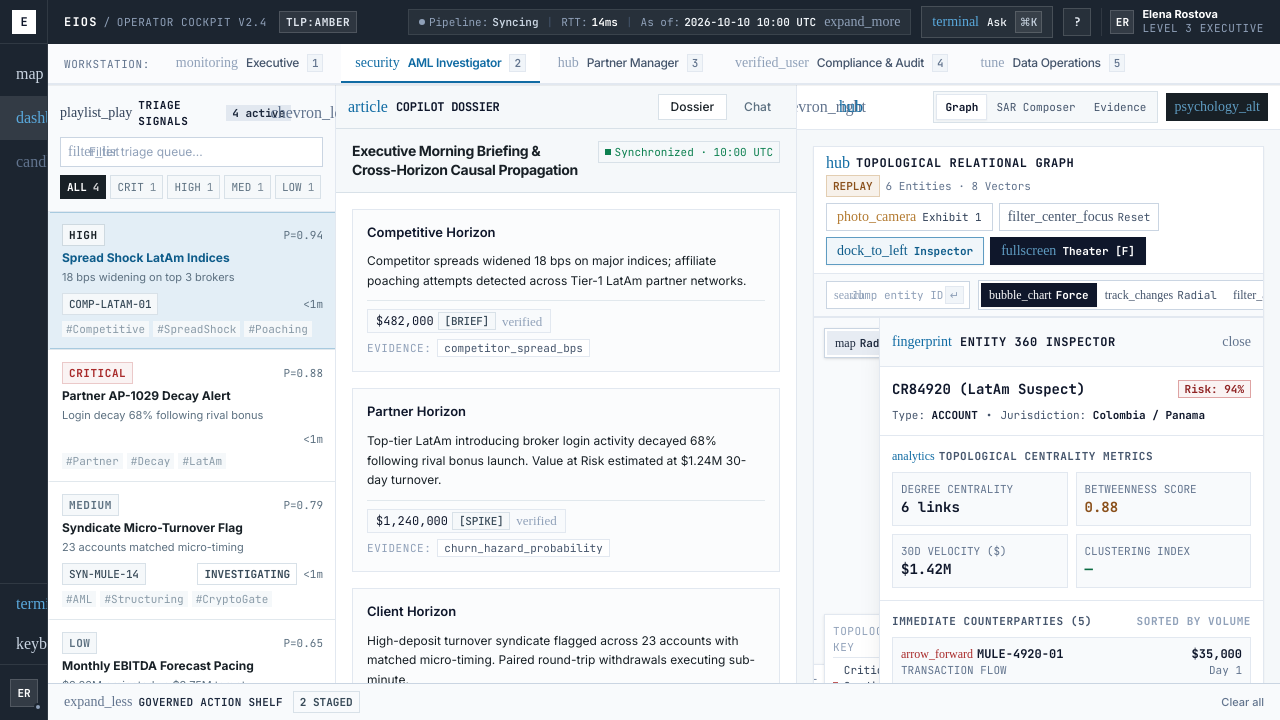
Test case: Tripartite Shell Layout & Navigation (User Story 1) › renders all tripartite COP zones: Left Rail, Center Dossier, Right Canvas, Header Nav, and Governed Action Shelf
This screenshot has width=1280, height=720.
Expected: the heading "OPERATOR COCKPIT v2.4" is shown, [117,14,267,30]
// System status (opened from the header pipeline chip) hosts Principle VIII Fallback & Outage Verification
Click the button with test id "header-pipeline-status" at (459, 22), box [408,9,911,35]
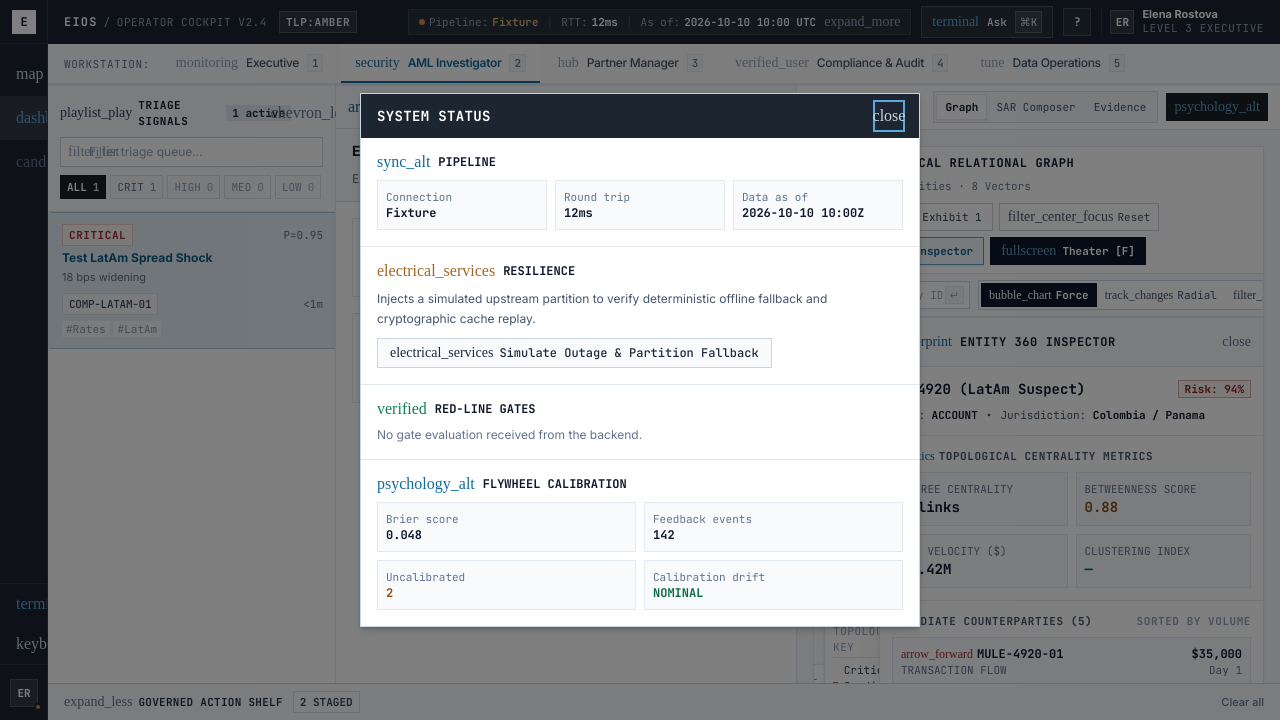
Expected: the field with placeholder "Filter triage queue..." is shown, [60,137,323,167]
Result: the button "Simulate Outage & Partition Fallback" is shown at [377,338,772,368]
